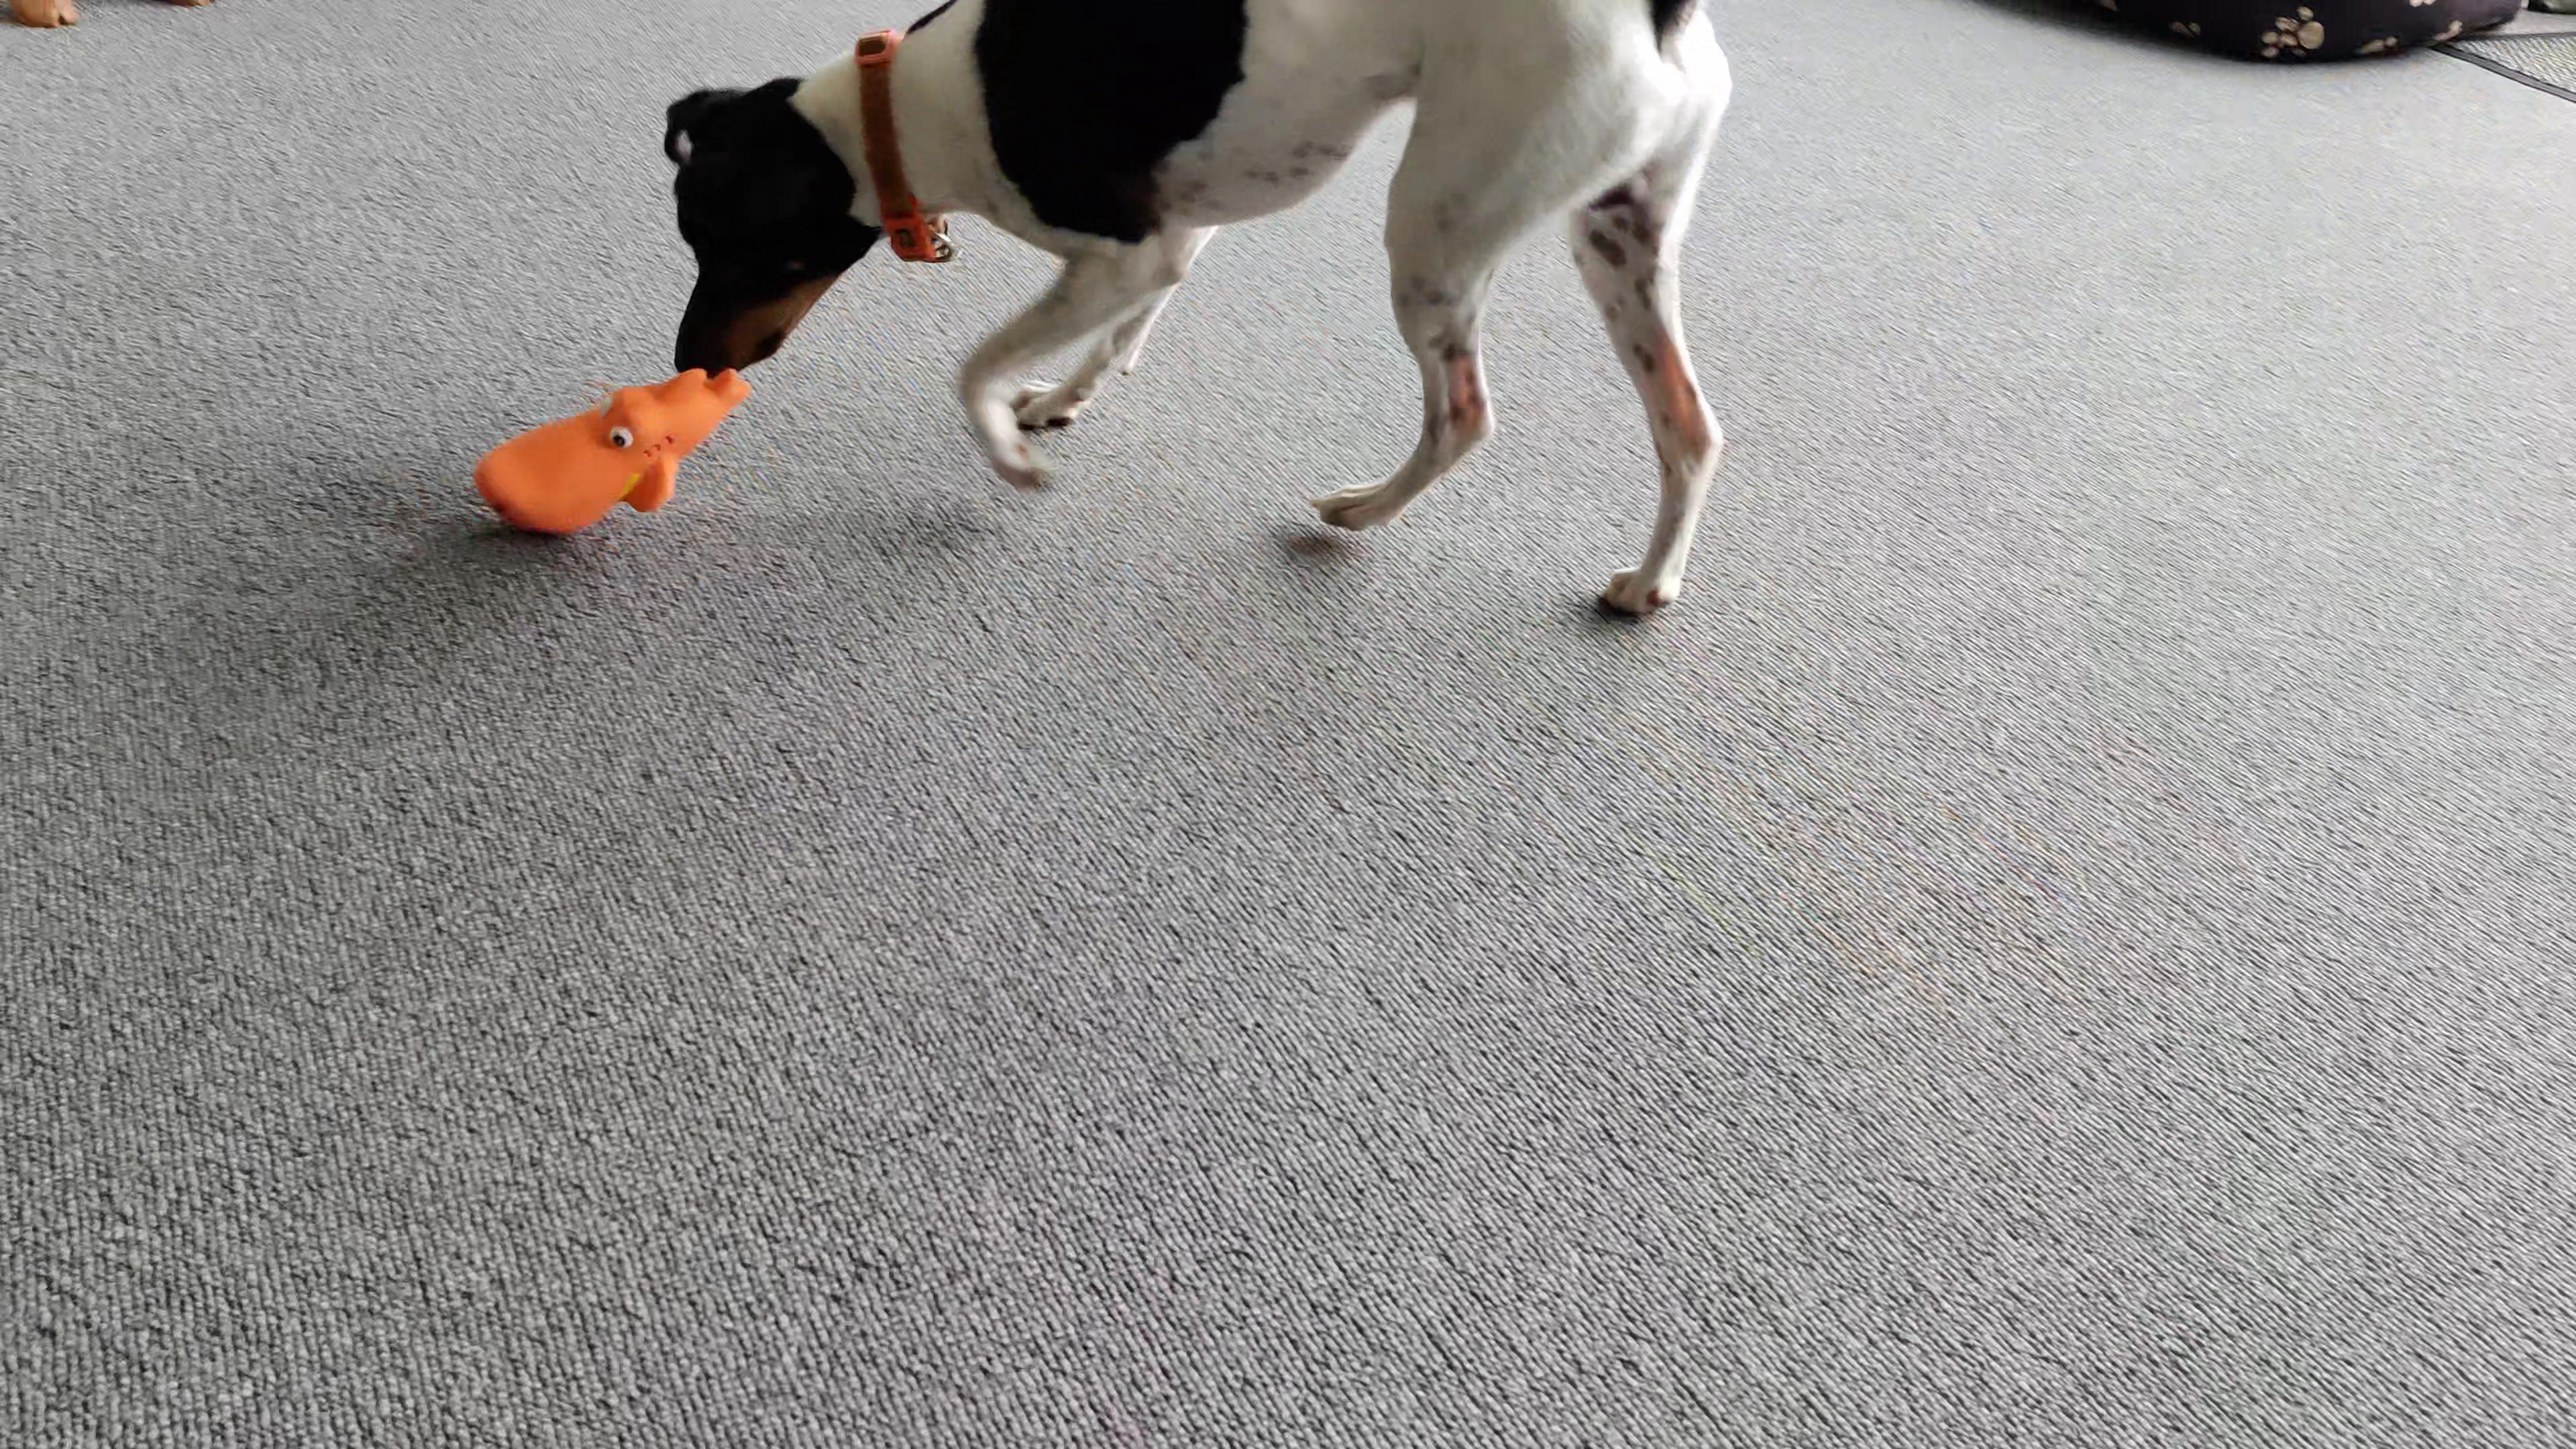Dog: (648, 2, 1776, 644)
